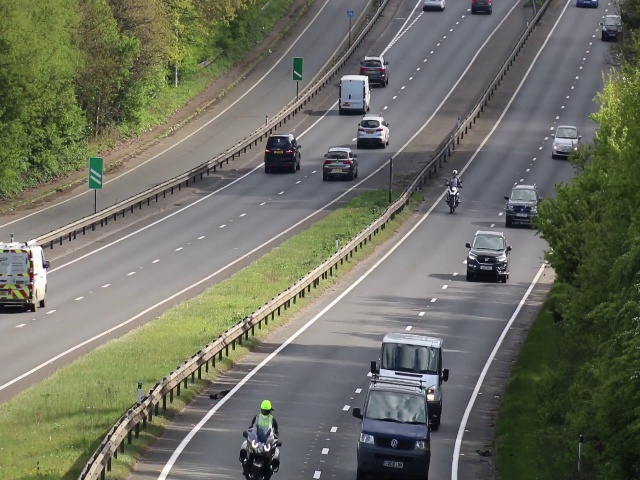car: (357, 386, 429, 480), (1, 243, 50, 313), (466, 229, 512, 284), (504, 182, 539, 226), (264, 133, 301, 173), (340, 74, 372, 113), (322, 149, 359, 180), (358, 115, 390, 149), (553, 123, 572, 162), (374, 54, 388, 88), (602, 15, 617, 41)
